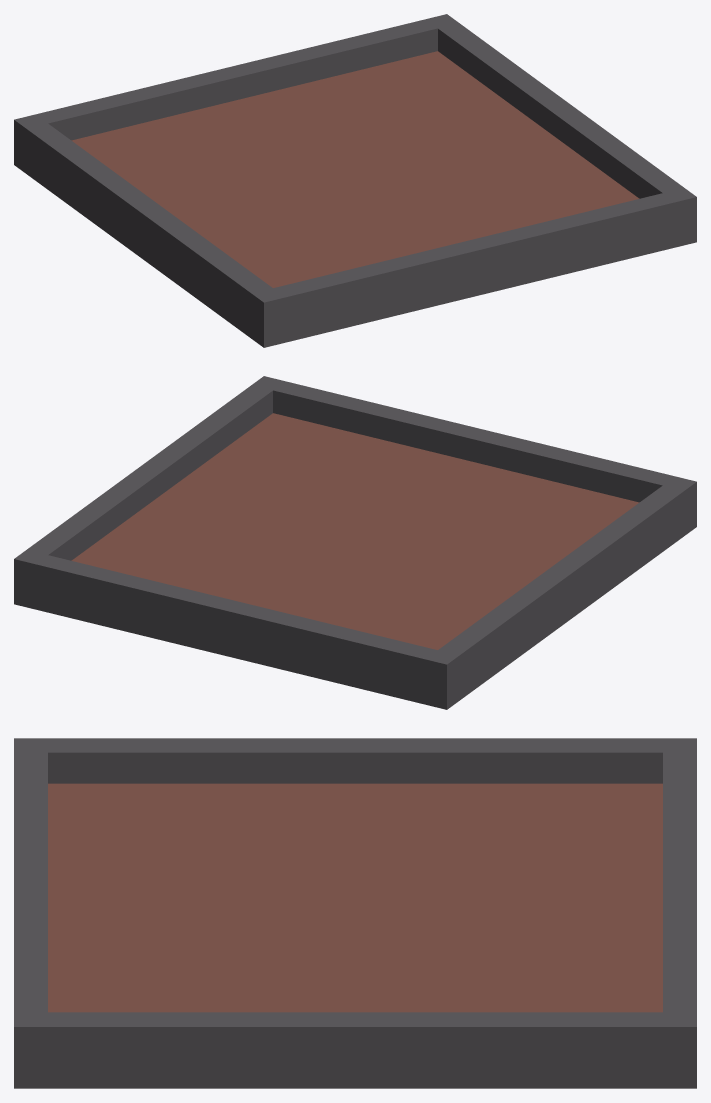
The model's file is TreePot.dae.
3 renders of one model, top to bottom at view 1: azimuth 30°, elevation 25°; view 2: azimuth 150°, elevation 25°; view 3: azimuth 270°, elevation 25°, orthographic. The views are drawn at different scales.
Parts seen in each view (by area): view 1: TreePot; view 2: TreePot; view 3: TreePot.
Part boxes in pixels (x1=…): TreePot: x1=14, y1=14, x2=696, y2=347; TreePot: x1=14, y1=376, x2=696, y2=709; TreePot: x1=14, y1=738, x2=696, y2=1088.
Bounding box in the file's own units: 2 × 2 × 0.2.
